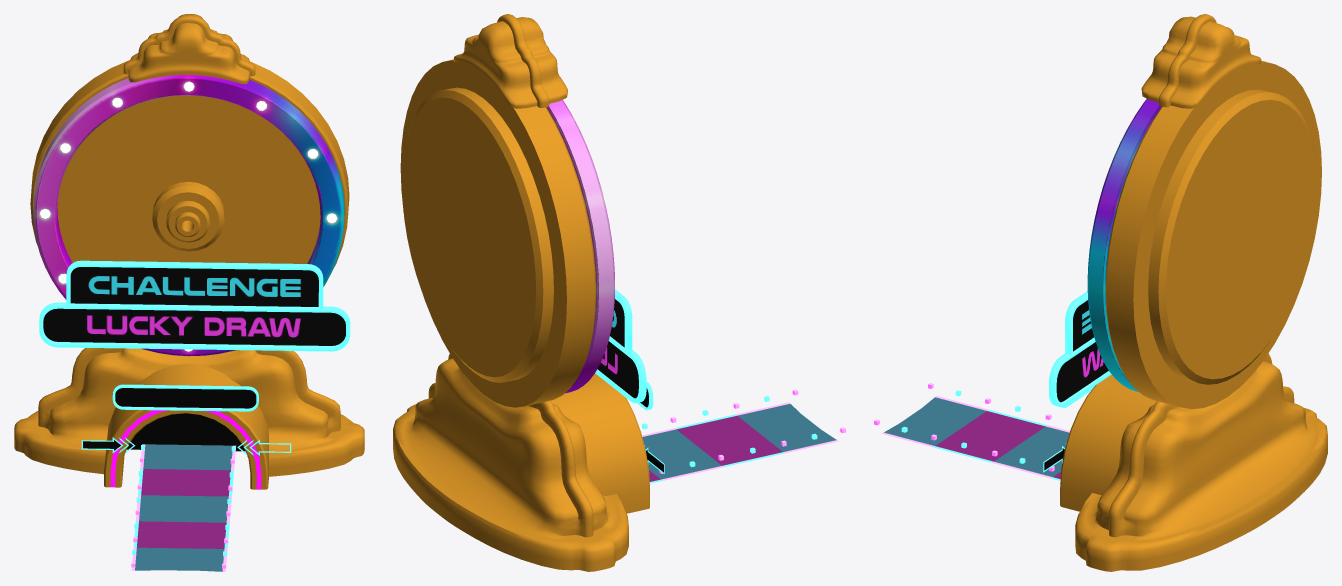
The model's file is luckyDraw.glb.
The picture shows the model from 3 angles, left to right: view 1: azimuth 30°, elevation 25°; view 2: azimuth 150°, elevation 25°; view 3: azimuth 270°, elevation 25°; orthographic projection. The views are drawn at different scales.
Parts seen in each view (by area): view 1: Circle.021, Circle.001, Plane.049, Circle.020, Plane.050, Cube, Circle.018, Plane.047, Plane.052, Plane.048, Plane.051, comeInArrow.008; view 2: Circle.021, Circle.001, Plane.050, Cube, Circle.018, Circle.020, Plane.049, Plane.047; view 3: Circle.021, Circle.001, Plane.050, Circle.018, Cube, Circle.020, Plane.049, Plane.047.
Part boxes in pixels (x1,y1,x2,y2): Circle.021: (30,60,349,268); Circle.001: (14,348,364,476); Plane.049: (43,267,345,345); Circle.020: (33,75,344,356); Plane.050: (131,444,235,571); Cube: (104,363,268,489); Circle.018: (123,14,255,83); Plane.047: (39,302,350,351); Plane.052: (115,388,256,408); Plane.048: (66,260,323,308); Plane.051: (112,384,258,411); comeInArrow.008: (81,437,135,453); Circle.021: (400,59,596,407); Circle.001: (393,354,628,571); Plane.050: (642,389,845,483); Cube: (551,373,649,513); Circle.018: (453,14,567,108); Circle.020: (546,100,615,393); Plane.049: (597,299,638,398); Plane.047: (595,336,646,403); Circle.021: (1105,60,1321,409); Circle.001: (1075,353,1327,571); Plane.050: (874,383,1069,480); Circle.018: (1141,14,1261,108); Cube: (1060,374,1156,511); Circle.020: (1087,99,1161,392); Plane.049: (1056,300,1108,402); Plane.047: (1049,337,1111,406).
Size of the model in its own units: 1.23 by 1.62 by 1.38.
10 materials, 2 textured.
